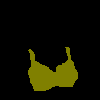reggiseno: (28, 47, 78, 91)
